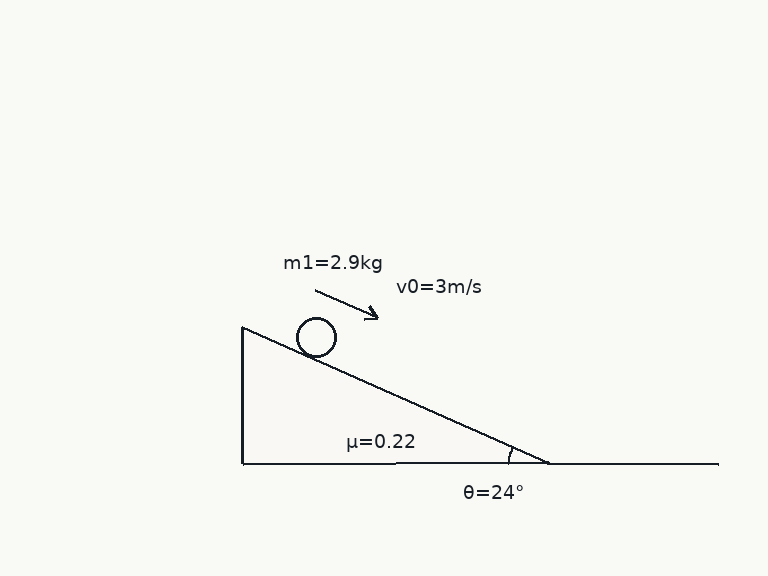ball: (294, 315, 338, 359)
ramp: (241, 325, 551, 465)
